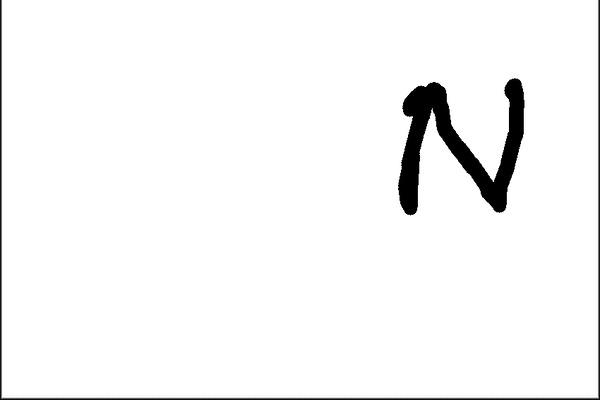N: (383, 68, 529, 218)
